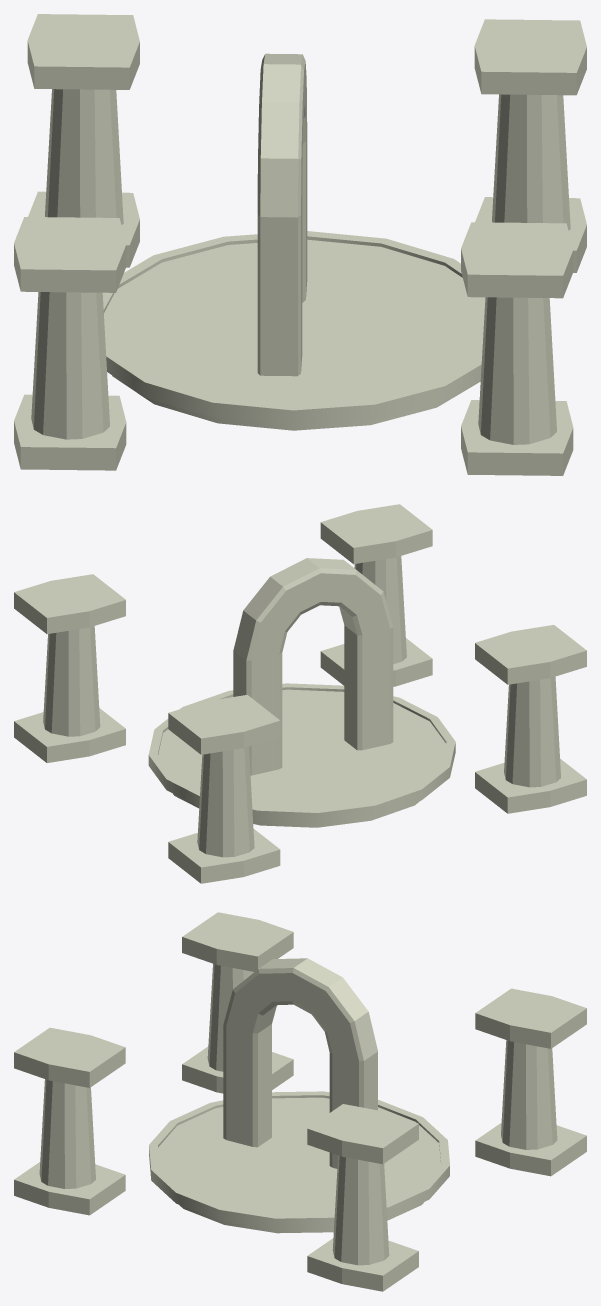
The model's file is archedRuins.fbx.
3 renders of one model, top to bottom at view 1: azimuth 30°, elevation 25°; view 2: azimuth 150°, elevation 25°; view 3: azimuth 270°, elevation 25°, orthographic. The views are drawn at different scales.
Parts seen in each view (by area): view 1: platform_geo, pillar_base_geo (×4), pillar_top_geo (×4), arch_geo, pillar_mid_geo (×4); view 2: platform_geo, pillar_top_geo (×4), pillar_base_geo (×4), arch_geo, pillar_mid_geo (×4); view 3: platform_geo, pillar_top_geo (×4), pillar_base_geo (×4), arch_geo, pillar_mid_geo (×4).
Boxes of the visible parts, bbox=[...] form: platform_geo: bbox=[102, 231, 485, 430]; pillar_base_geo (×4): bbox=[31, 89, 570, 444]; pillar_top_geo (×4): bbox=[14, 14, 586, 298]; arch_geo: bbox=[257, 53, 307, 376]; pillar_mid_geo (×4): bbox=[14, 191, 586, 475]; platform_geo: bbox=[148, 683, 455, 827]; pillar_top_geo (×4): bbox=[14, 504, 586, 754]; pillar_base_geo (×4): bbox=[43, 556, 560, 857]; arch_geo: bbox=[233, 558, 393, 775]; pillar_mid_geo (×4): bbox=[14, 638, 586, 883]; platform_geo: bbox=[149, 1091, 449, 1233]; pillar_top_geo (×4): bbox=[14, 912, 586, 1164]; pillar_base_geo (×4): bbox=[39, 964, 557, 1265]; arch_geo: bbox=[223, 958, 377, 1168]; pillar_mid_geo (×4): bbox=[14, 1046, 586, 1291].
Size of the model in its own units: 17.53 by 7.08 by 17.98.
